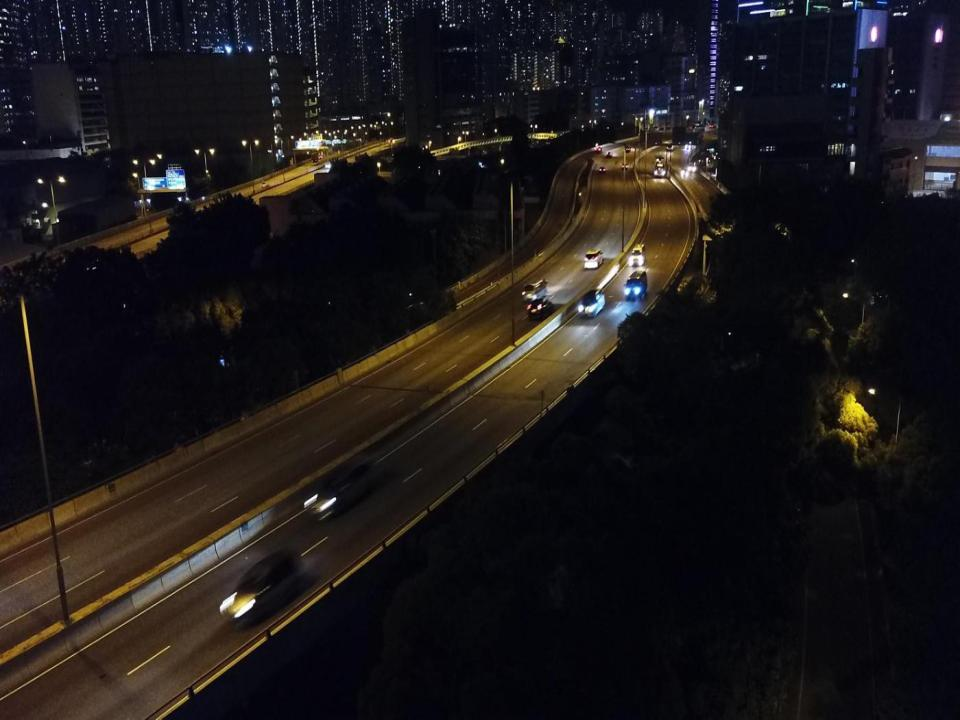car: (229, 548, 304, 624), (310, 459, 377, 514), (576, 289, 604, 318), (528, 299, 548, 318), (687, 162, 696, 172), (598, 166, 606, 174), (684, 141, 692, 149), (680, 168, 688, 176), (666, 143, 673, 151), (595, 146, 602, 153), (261, 182, 268, 189), (324, 163, 332, 169), (622, 163, 628, 169), (606, 152, 612, 158), (388, 137, 394, 143), (626, 145, 630, 153), (709, 124, 716, 128), (319, 155, 324, 159)
truck: (653, 156, 665, 178), (312, 152, 320, 164)
van: (626, 270, 648, 300), (524, 278, 548, 300), (584, 248, 604, 268), (630, 244, 645, 266)
